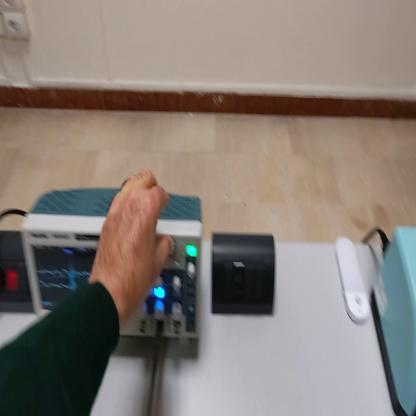hand: (91, 168, 175, 321)
oscilloscope: (24, 183, 213, 356)
socket: (2, 231, 35, 304)
welder station: (371, 225, 416, 415)
